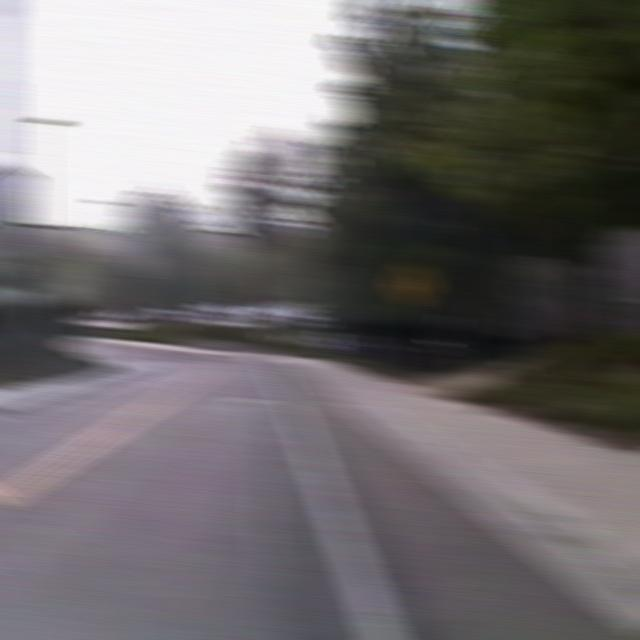pedestrianCrossing: (387, 259, 436, 310)
